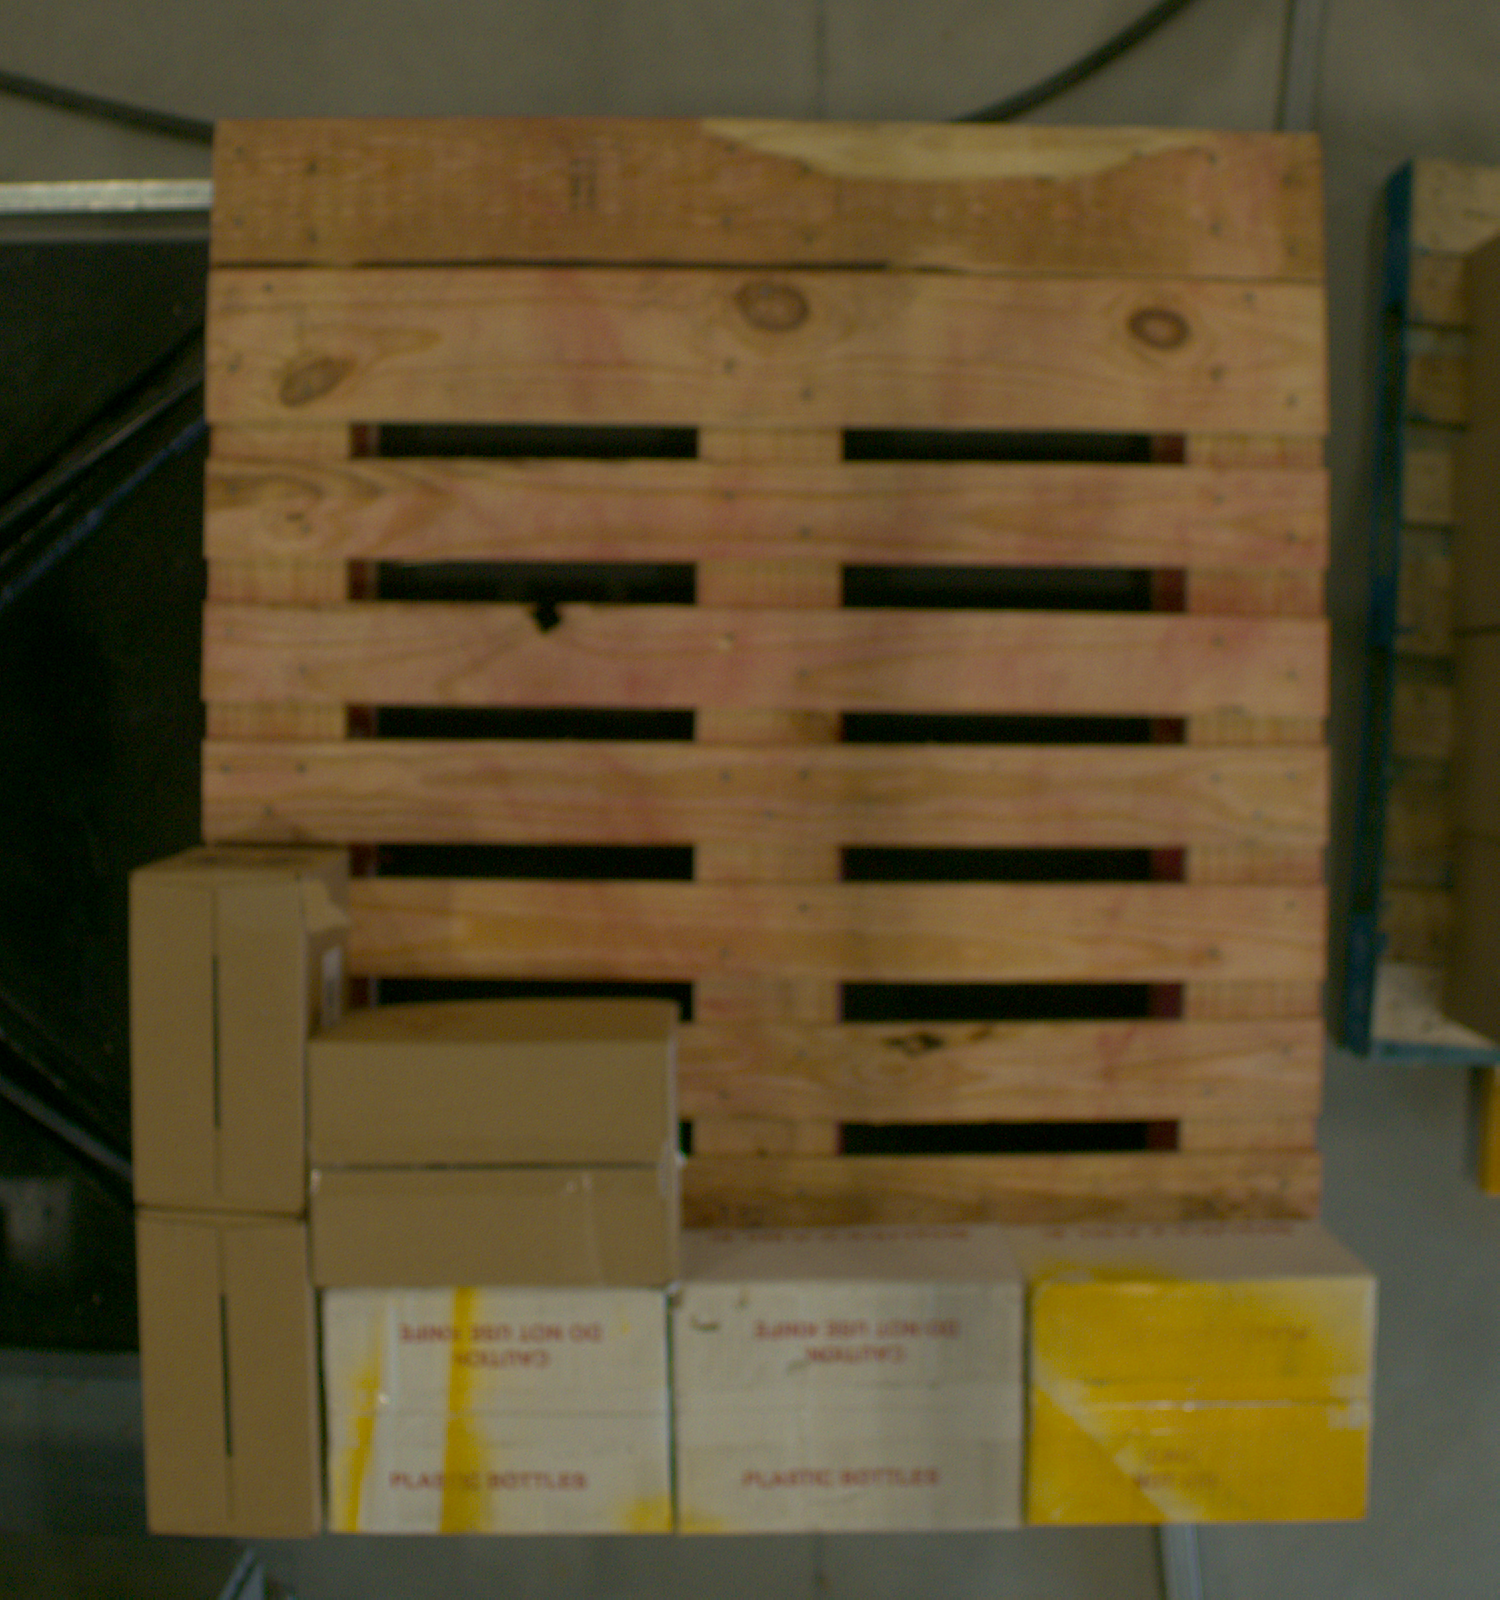box top: (374, 980, 613, 1348), (725, 1233, 973, 1584), (1029, 1277, 1377, 1527), (375, 1241, 617, 1586), (137, 1211, 321, 1538), (133, 875, 306, 1217)
